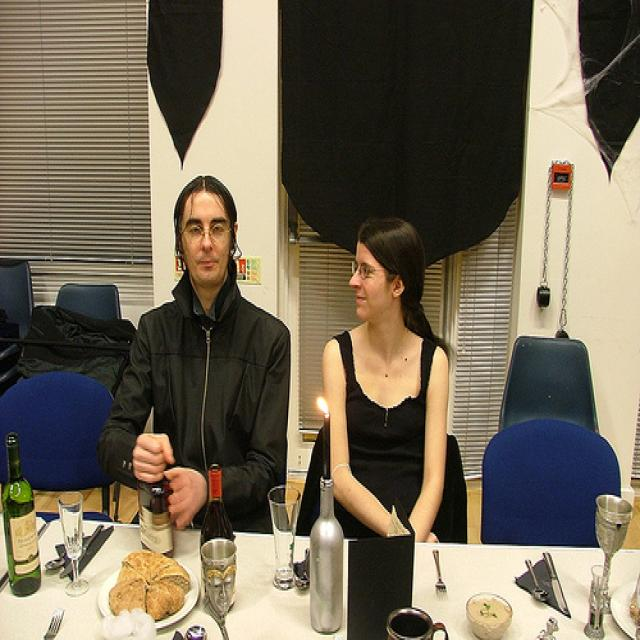bottle: (1, 423, 50, 600), (307, 469, 348, 639), (199, 462, 239, 612), (136, 476, 178, 559)
chair: (480, 416, 622, 549), (1, 370, 116, 522), (499, 336, 600, 435), (1, 255, 36, 361), (54, 283, 123, 324)
diningtable: (1, 515, 640, 639)
person: (97, 144, 298, 532), (316, 214, 458, 542)
